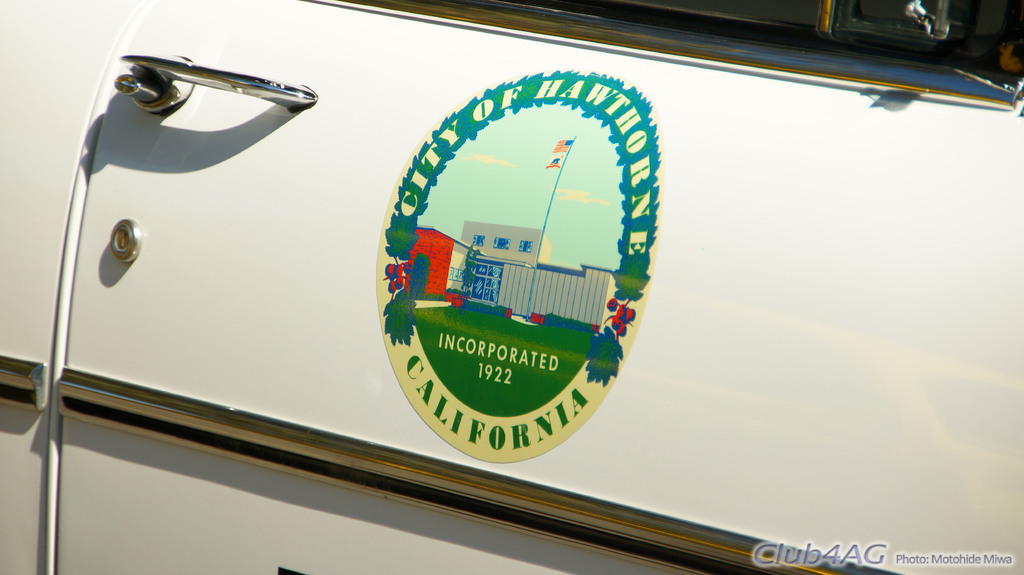Car: (5, 0, 1022, 573)
